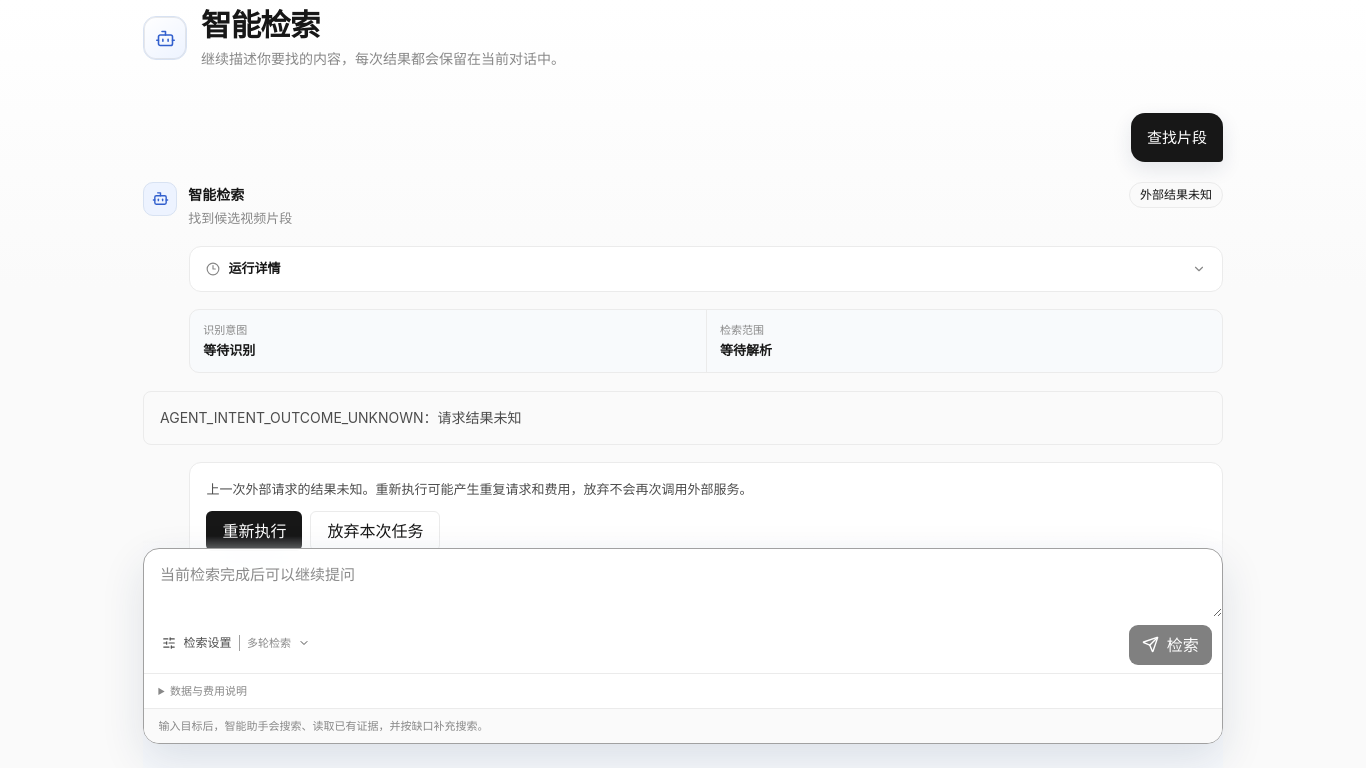
AgentWorkspace › 结果未知时可以放弃并读取 cancelled 终态
This screenshot has width=1366, height=768.
Step 1. Click the button "放弃本次任务" → (375, 531), box top-left (310, 511), bottom-right (440, 551)
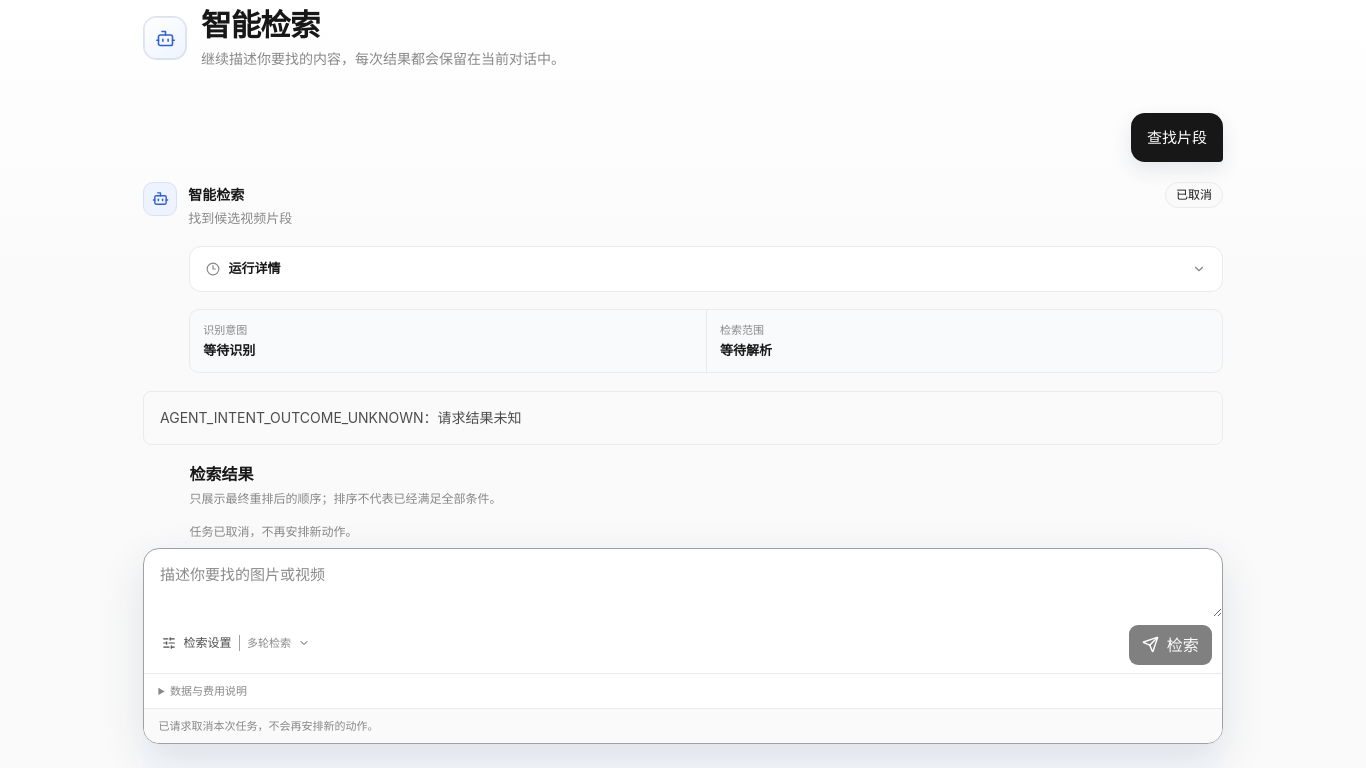
Expected: the text "已取消" is shown, top-left (1165, 182), bottom-right (1223, 208)
